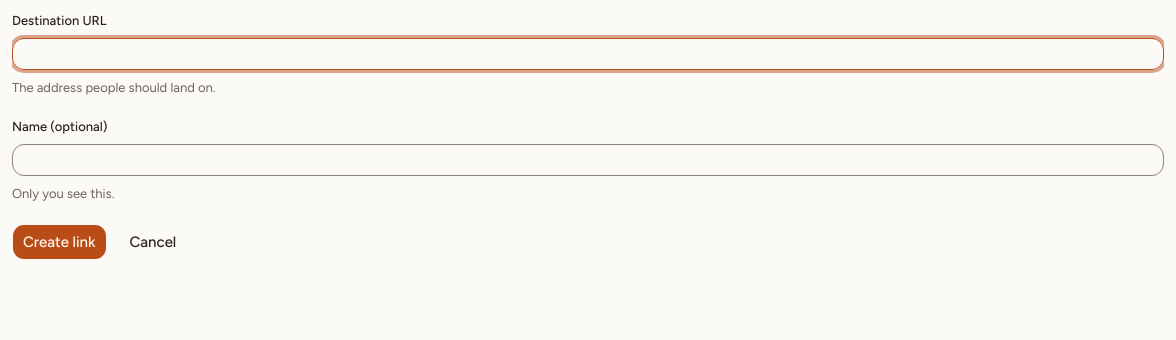
it: LinkForm › promises that existing redirects are unaffected when the hourly limit is hit
Type "https://example.com/a" into the field labelled "Destination URL" at x=588, y=54, box [12,38,1164,70]
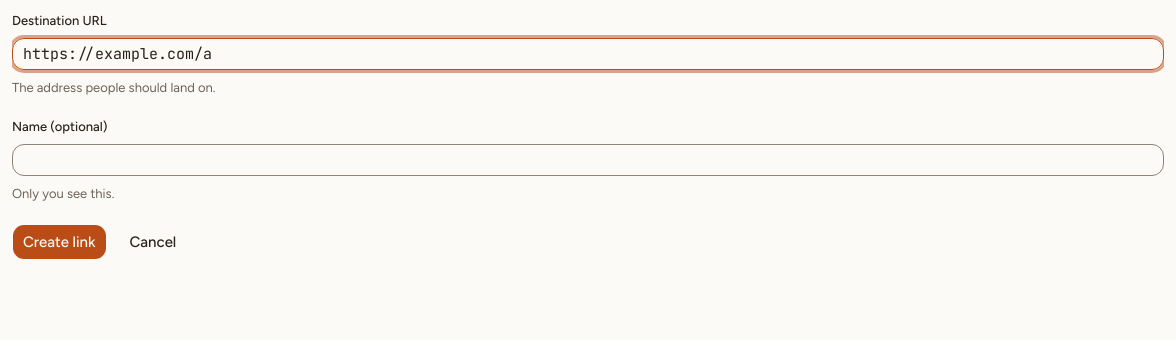
Click the button "Create link" at x=59, y=242, box [12,224,106,260]
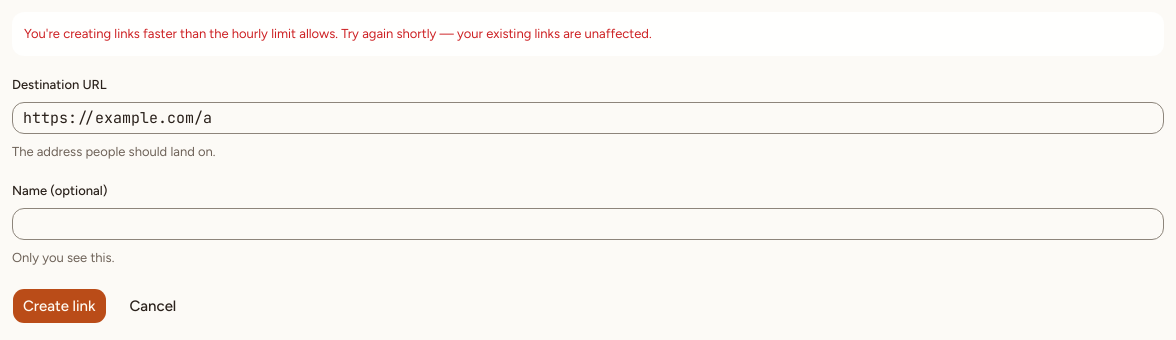
Expected: the message shows "your existing links are unaffected", [24,26,652,41]
